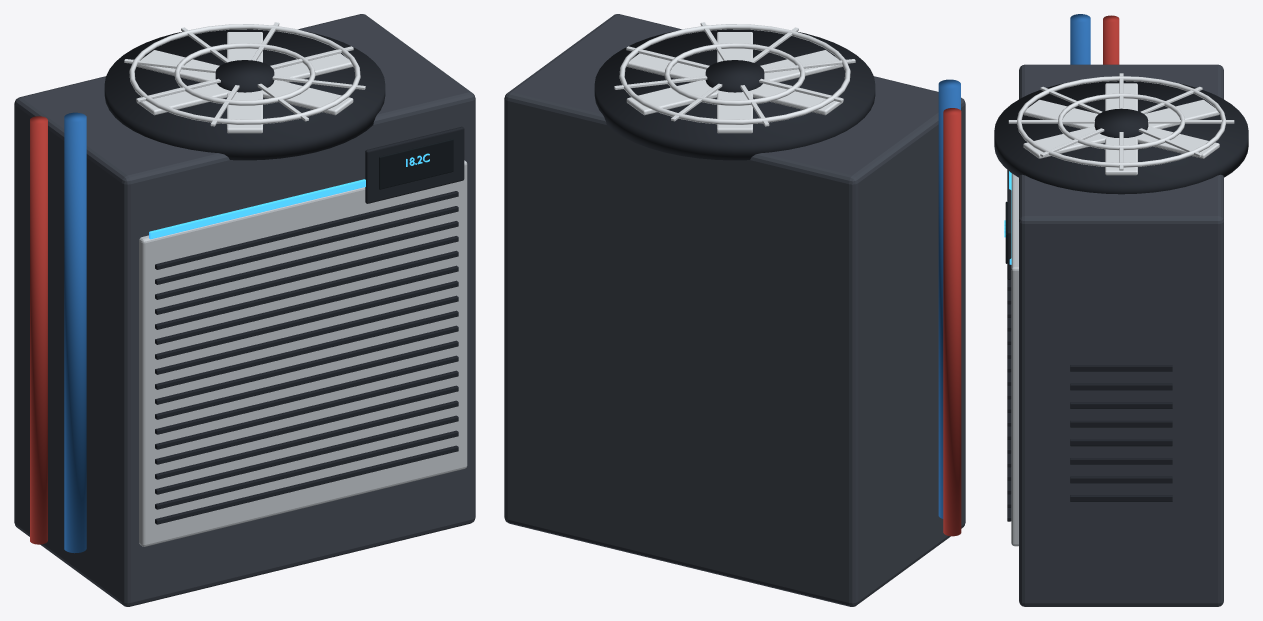
Rendered from crac.glb.
3 views of the same model, side by side, from view 1: azimuth 30°, elevation 25°; view 2: azimuth 150°, elevation 25°; view 3: azimuth 270°, elevation 25° (orthographic). The views are drawn at different scales.
Visible parts, largest first — view 1: CRAC_Asset; view 2: CRAC_Asset; view 3: CRAC_Asset.
Boxes of the visible parts, x1,y1,x2,y2 form: CRAC_Asset: [14, 14, 475, 606]; CRAC_Asset: [504, 14, 965, 606]; CRAC_Asset: [994, 14, 1248, 606].
Bounding box in the file's own units: 2.04 × 2.3 × 1.24.
